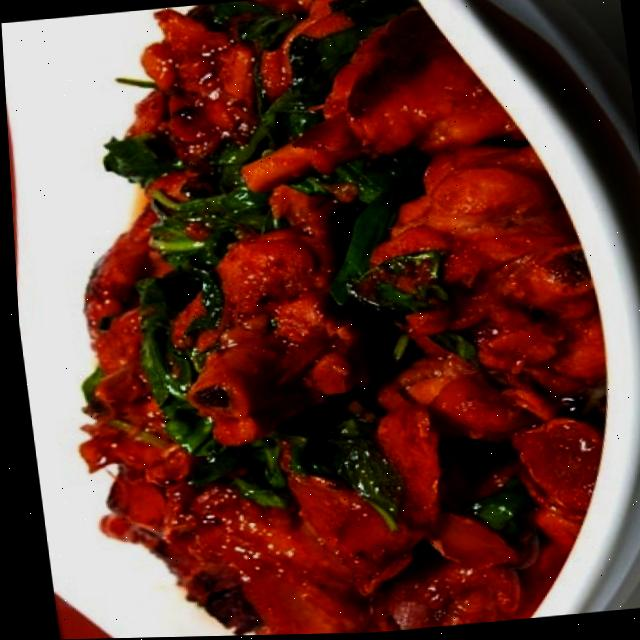鸡肉料理 含炸鸡: (39, 9, 560, 636)
